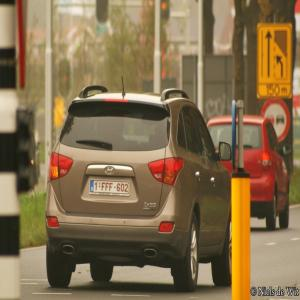Vehicle-registration-plate: (90, 181, 131, 198)
